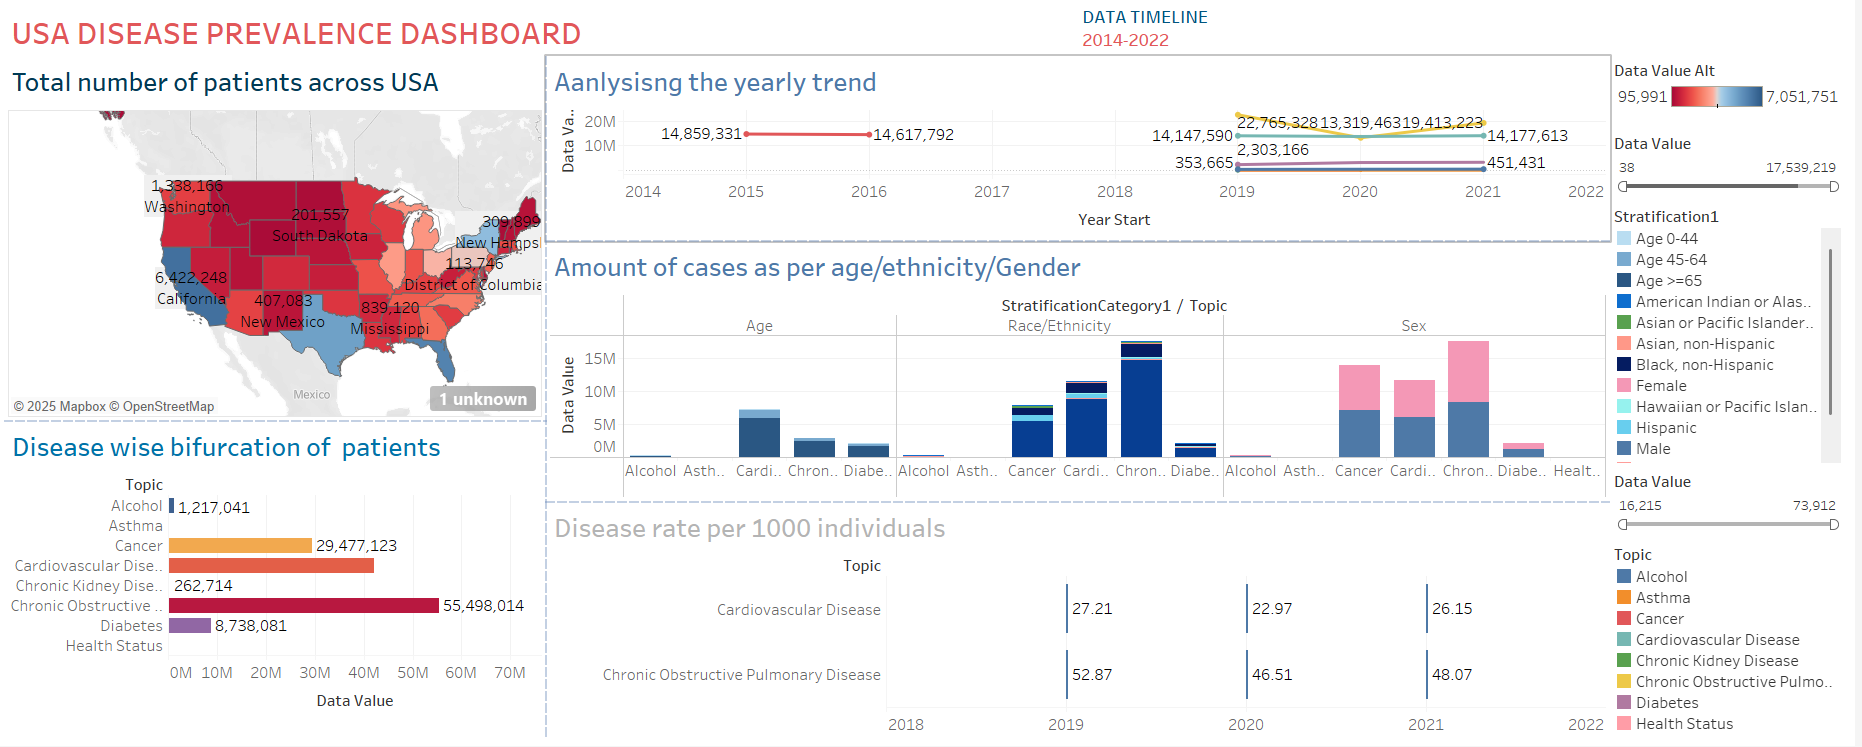

What the dashboard file says about the page in this screenshot:
{"tool":"tableau","page":{"name":"Dashboard 1","canvas":[1000,1000],"units":"permille","ordinal":0},"visuals":[{"type":"text","box":[582.3,4,105,69.6]},{"type":"image","param":"C:/Users/chora/OneDrive/Desktop/timeline-icon.png","box":[546.1,5.4,33.2,61.6]},{"type":"title","box":[4.3,10.7,991.4,65.6]},{"type":"worksheet","title":"Number of Patients","mark":"Multipolygon","box":[4.3,76.3,291.5,488.6]},{"type":"worksheet","title":"Trend analysis","mark":"Automatic","rows":["DataValue"],"cols":["YearStart"],"box":[295.8,76.3,572.4,247.4]},{"type":"legend","title":"Number of Patients","param":"[federated.18trhzx10tp9ip14leerf0mnxf0p].[sum:DataValueAlt:qk]","box":[868.2,76.3,127.5,97.7]},{"type":"filter","title":"Overall Topics v/s cases","param":"[federated.18trhzx10tp9ip14leerf0mnxf0p].[sum:DataValue:qk]","box":[868.2,174,127.5,97.7]},{"type":"legend","title":"Overall Topics v/s cases","param":"[federated.18trhzx10tp9ip14leerf0mnxf0p].[none:Stratification1:nk]","box":[868.2,271.8,127.5,354.8]},{"type":"worksheet","title":"Overall Topics v/s cases","mark":"Automatic","rows":["DataValue"],"cols":["StratificationCategory1","Topic"],"box":[295.8,323.7,572.4,350]},{"type":"worksheet","title":"Disease wise no. of patients","mark":"Automatic","rows":["Topic"],"cols":["DataValue"],"box":[4.3,564.9,291.5,424.4]},{"type":"filter","title":"Analysing the rate per 1000 individuals ","param":"[federated.18trhzx10tp9ip14leerf0mnxf0p].[sum:DataValue:qk]","box":[868.2,626.5,127.5,97.7]},{"type":"worksheet","title":"Analysing the rate per 1000 individuals ","mark":"Automatic","rows":["Topic"],"cols":["YearEnd"],"box":[295.8,673.7,572.4,315.6]},{"type":"legend","title":"Trend analysis","param":"[federated.18trhzx10tp9ip14leerf0mnxf0p].[none:Topic:nk]","box":[868.2,724.2,127.5,265.1]}]}

Visuals, with their boxes on the dashboard's canvas, which has no fixed pixel size, in thousandths of its width and height (x1, y1, x2, y2). These are canvas units, not pixel positions in the 1862x747 screenshot, which may show the page scaled, cropped or inside an application window:
text: x1=582 y1=4 x2=687 y2=74
image: x1=546 y1=5 x2=579 y2=67
title: x1=4 y1=11 x2=996 y2=76
"Number of Patients" worksheet (Multipolygon marks): x1=4 y1=76 x2=296 y2=565
"Trend analysis" worksheet: x1=296 y1=76 x2=868 y2=324
"Number of Patients" legend: x1=868 y1=76 x2=996 y2=174
"Overall Topics v/s cases" filter: x1=868 y1=174 x2=996 y2=272
"Overall Topics v/s cases" legend: x1=868 y1=272 x2=996 y2=627
"Overall Topics v/s cases" worksheet: x1=296 y1=324 x2=868 y2=674
"Disease wise no. of patients" worksheet: x1=4 y1=565 x2=296 y2=989
"Analysing the rate per 1000 individuals " filter: x1=868 y1=626 x2=996 y2=724
"Analysing the rate per 1000 individuals " worksheet: x1=296 y1=674 x2=868 y2=989
"Trend analysis" legend: x1=868 y1=724 x2=996 y2=989
